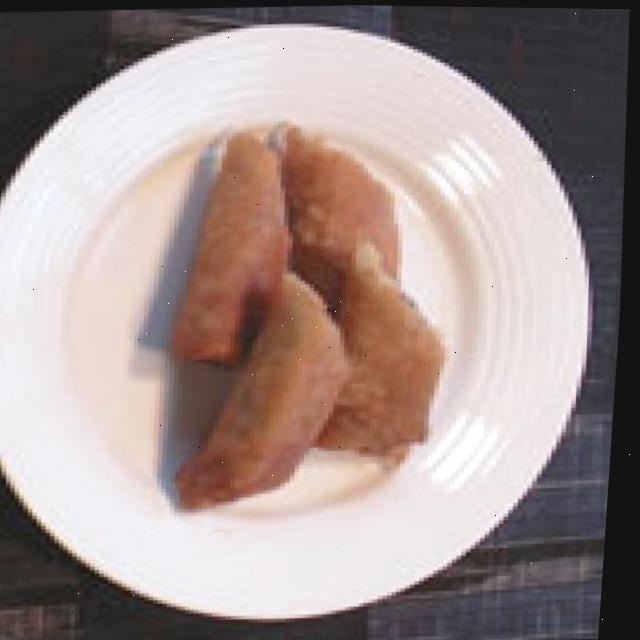鸡蛋料理: (139, 104, 486, 529)
